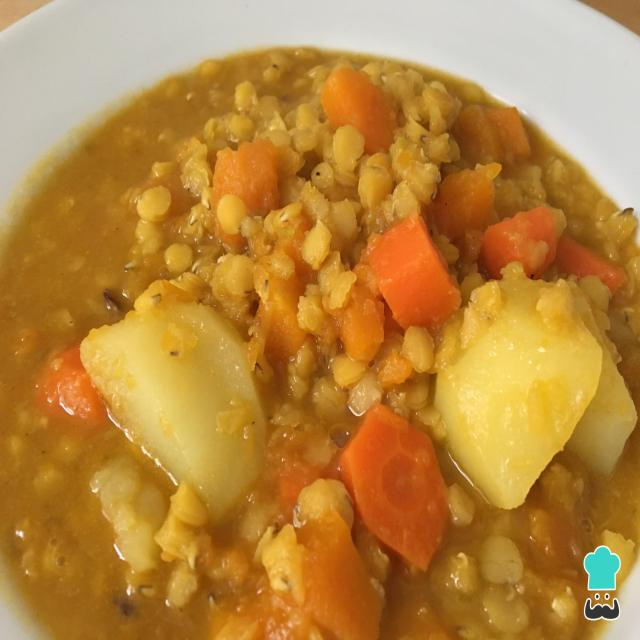lentejas: (6, 49, 632, 625)
